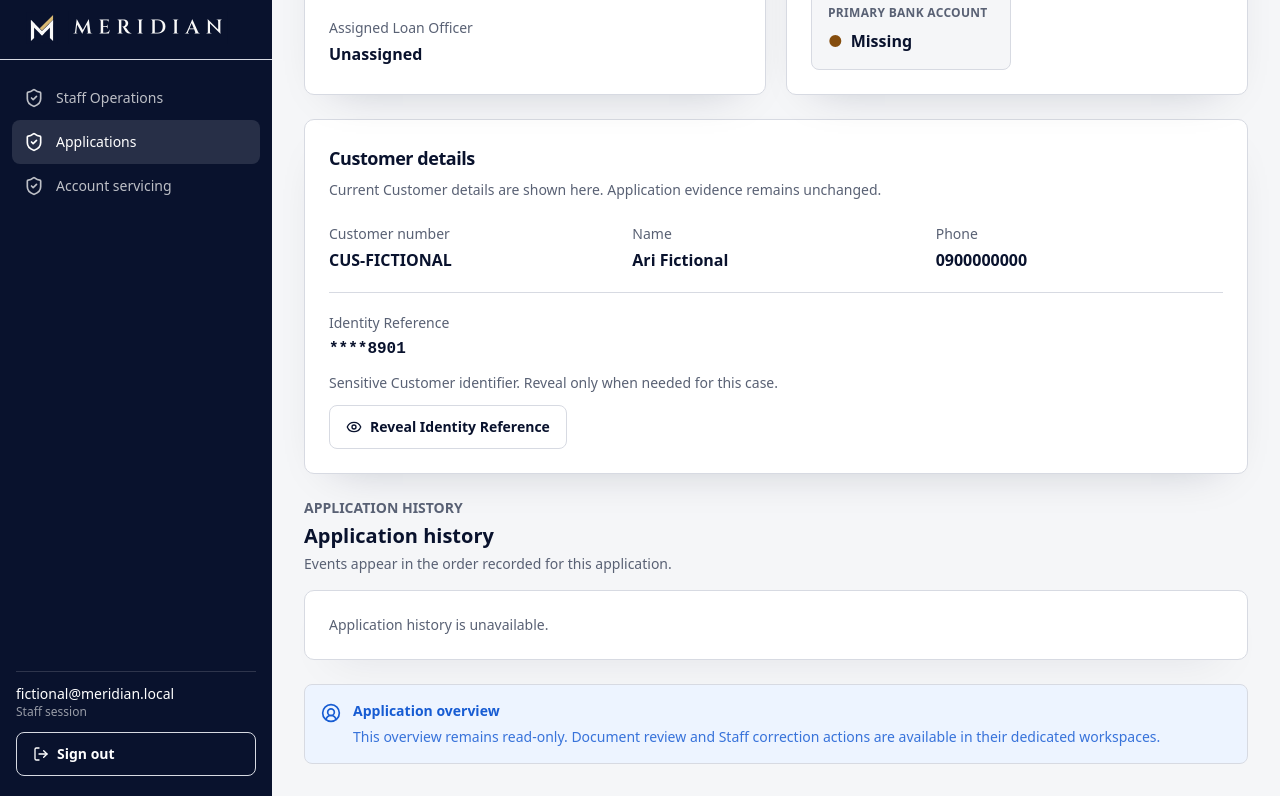
Test case: Application Case protected Identity Reference › shows only the stored mask initially; explicit reveal and Hide never cache or persist the value
This screenshot has width=1280, height=796.
(page scrolled)
Expected: the text "****8901" is shown, [329,340,406,358]
Expected: the text "Ari Fictional" is shown, [632,249,728,271]
Click the button "Reveal Identity Reference" at point(448, 427), box [329,405,567,449]
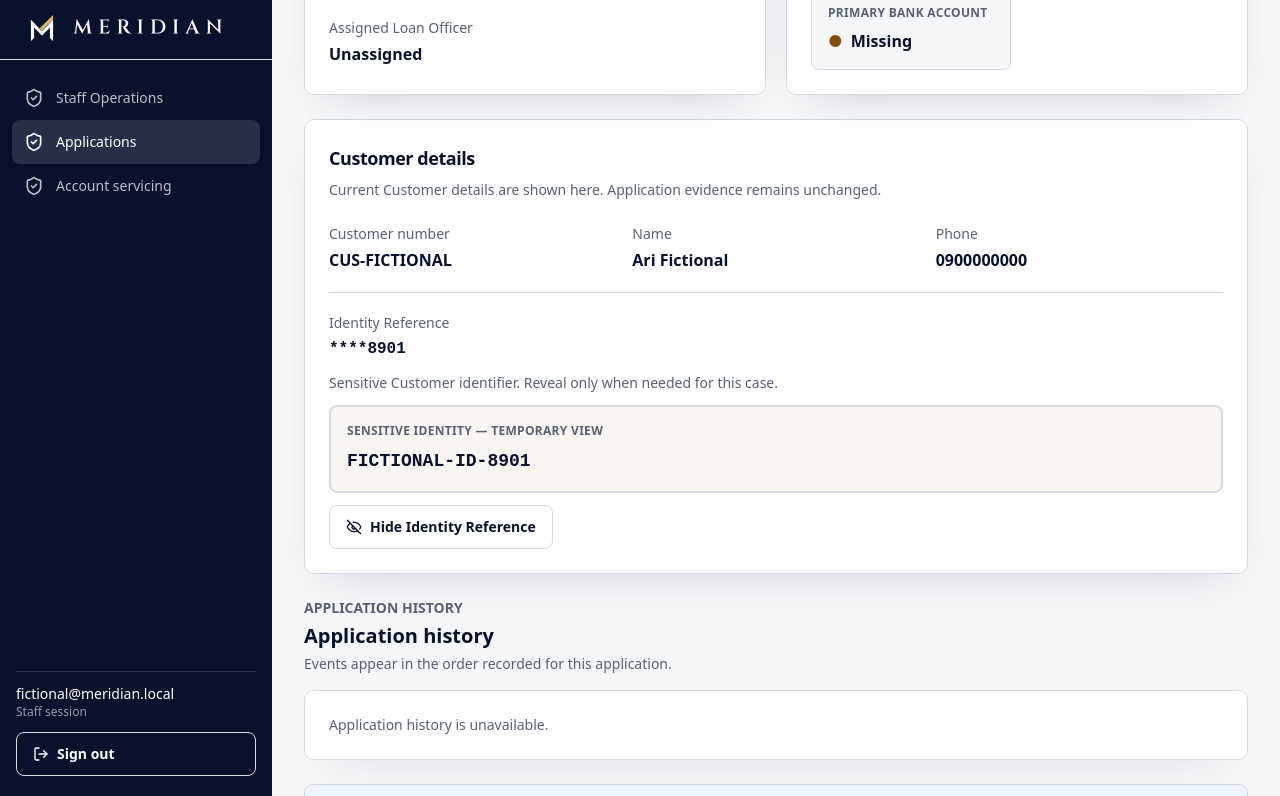
Expected: the text "FICTIONAL-ID-8901" is shown, [347,451,531,471]
Click the button "Hide Identity Reference" at point(441, 527), box [329,505,553,549]
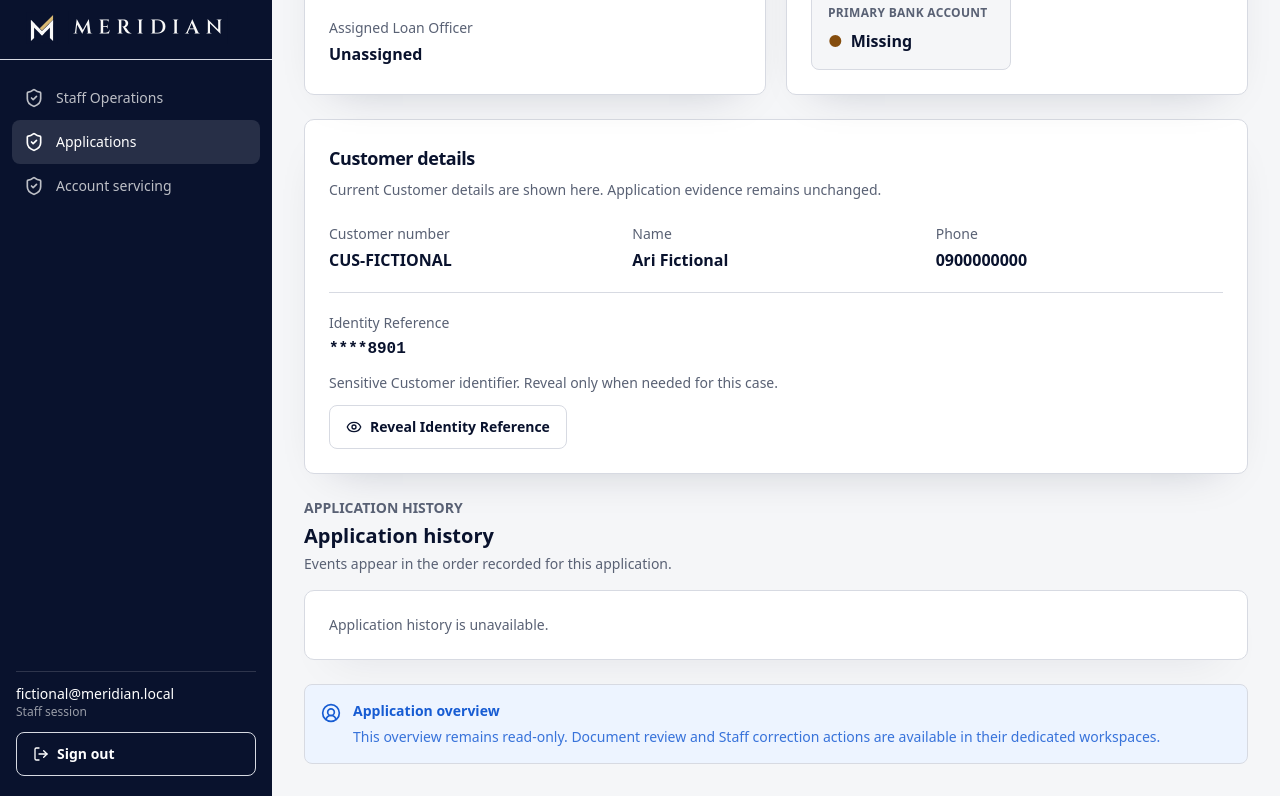
Expected: the text "FICTIONAL-ID-8901" is gone
